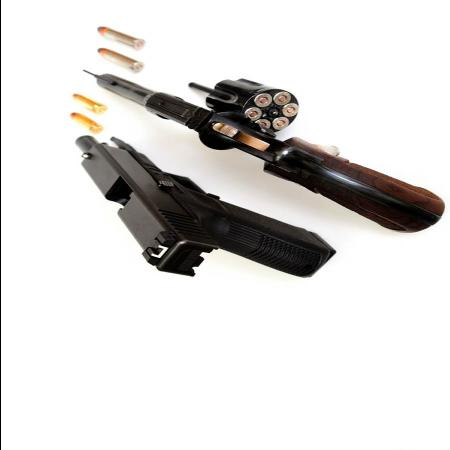Pistol: (80, 66, 444, 232), (72, 134, 335, 278)
